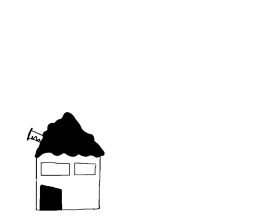bottom_placed_house: (0, 0, 260, 222)
chimney: (23, 121, 48, 149)
door: (37, 182, 67, 215)
open_window: (40, 158, 71, 179), (71, 160, 100, 179)
shaded_roof: (30, 108, 107, 159)
small_house: (2, 2, 260, 222)
wall: (32, 146, 104, 217)
